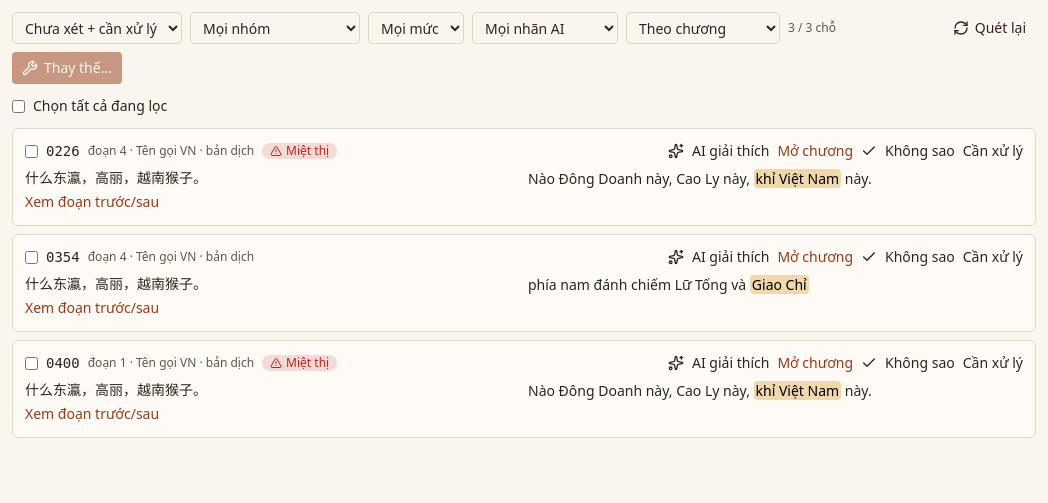
VnCheckPanel › xếp theo mục từ điển: chỗ cùng mục đứng liền, có đầu nhóm
The image size is (1048, 503).
Check: the text "0226" is shown, box [46,141,80,161]
Select "Theo mục từ điển" in the dropdown named "Xếp theo". click: [703, 28]
box: [626,12,780,44]
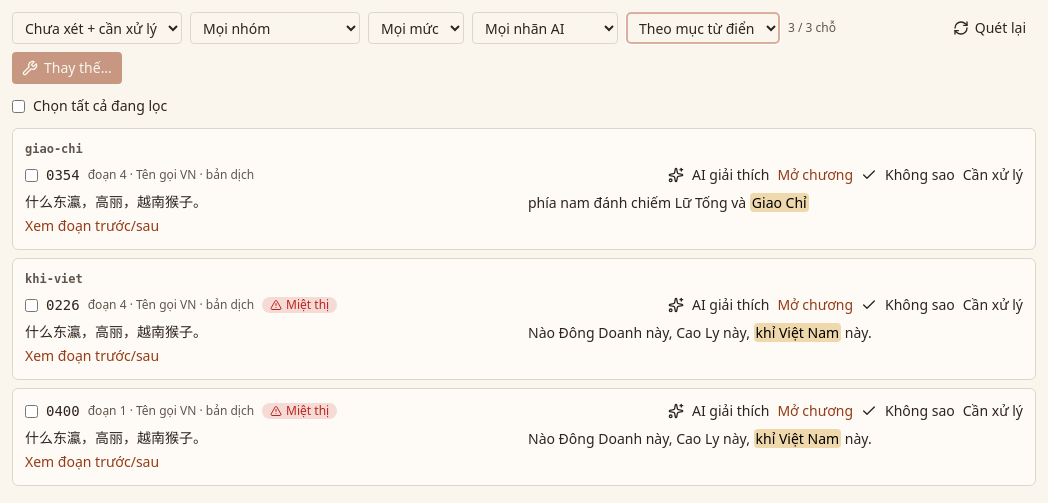
Check: the elements with test id "vn-hit-chapter" read "0354", "0226", "0400", in this order, box [46,165,80,185]; [46,295,80,315]; [46,401,80,421]
Check: the elements with test id "vn-entry-header" read "giao-chi", "khi-viet", in this order, box [25,142,83,156]; [25,272,83,286]
